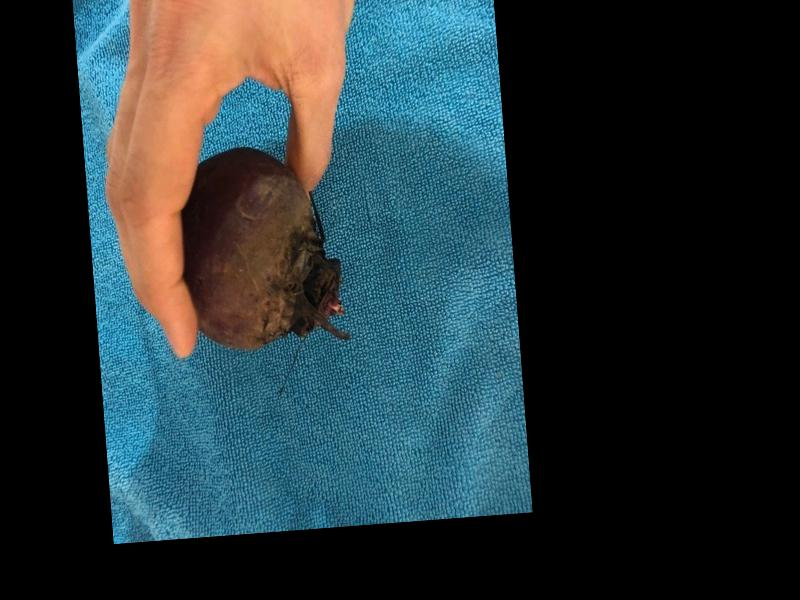Beet: (176, 142, 349, 353)
